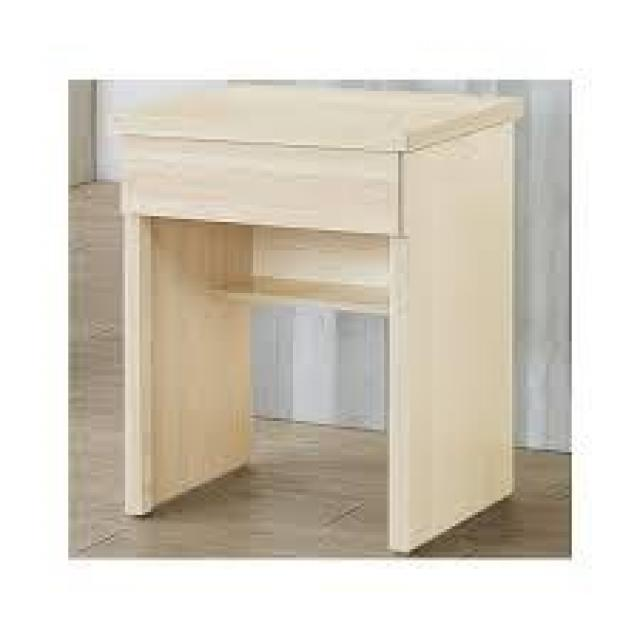desk: (86, 56, 544, 556)
